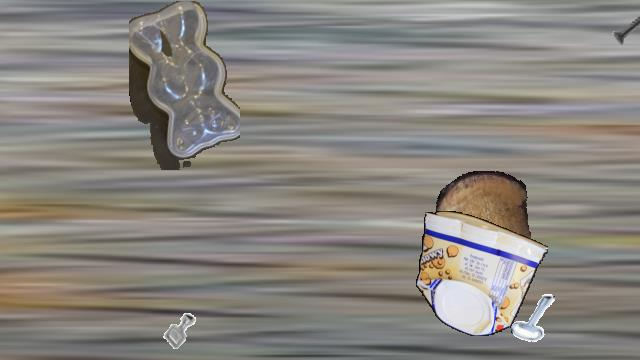metal: (510, 293, 562, 345), (155, 305, 205, 355), (607, 1, 640, 53), (0, 46, 7, 102)
plastic: (129, 1, 239, 169), (416, 211, 548, 335)
wood: (436, 171, 530, 275)
